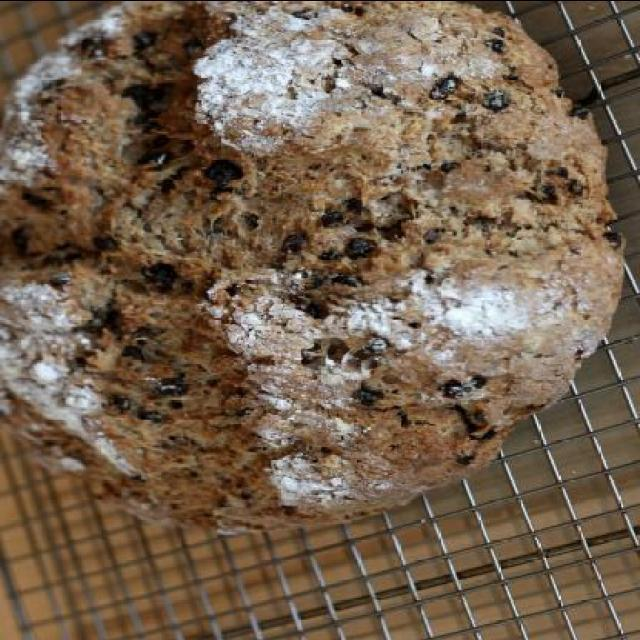Bread: (0, 1, 629, 596)
